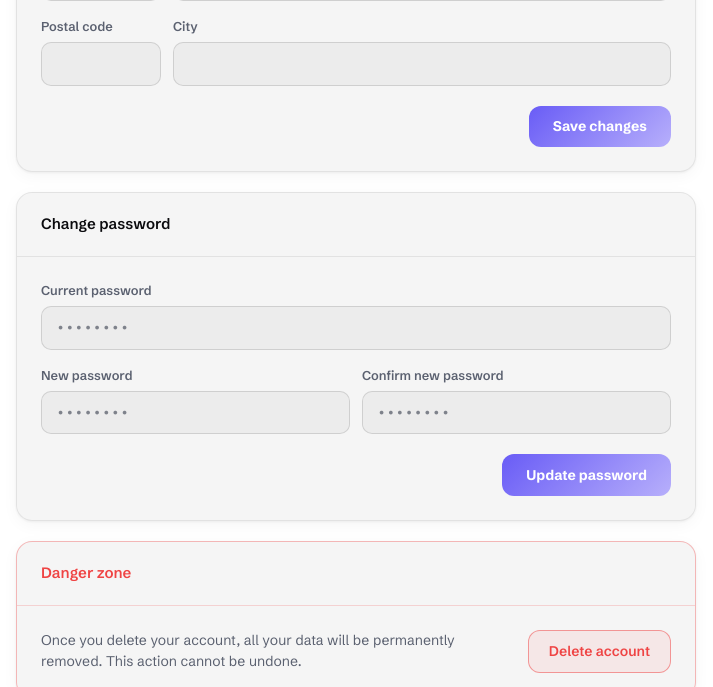
Scenario: ProfilePage › shows error on password update failure
This screenshot has width=713, height=687.
(page scrolled)
Type "wrongpass" into the password field labelled "Current password".
click(356, 328); type("wrongpass")  # box x1=41 y1=306 x2=671 y2=350
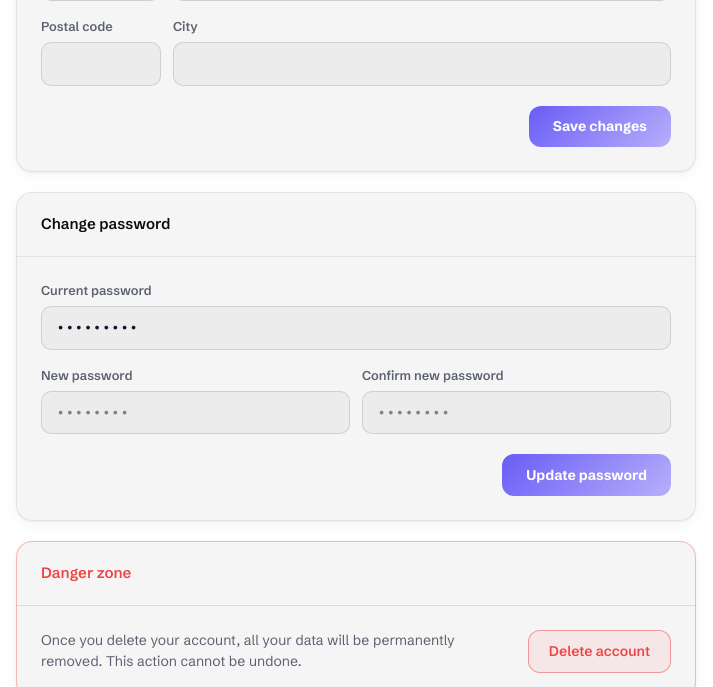
Type "newpass" into the password field labelled "New password".
click(196, 413); type("newpass")  # box x1=41 y1=391 x2=350 y2=434
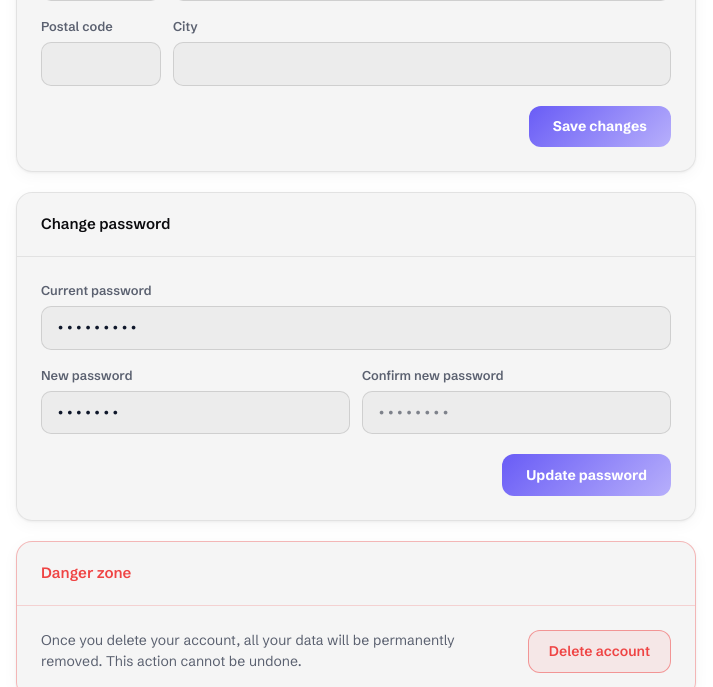
Type "newpass" into the password field labelled "Confirm new password".
click(516, 413); type("newpass")  # box x1=362 y1=391 x2=671 y2=434
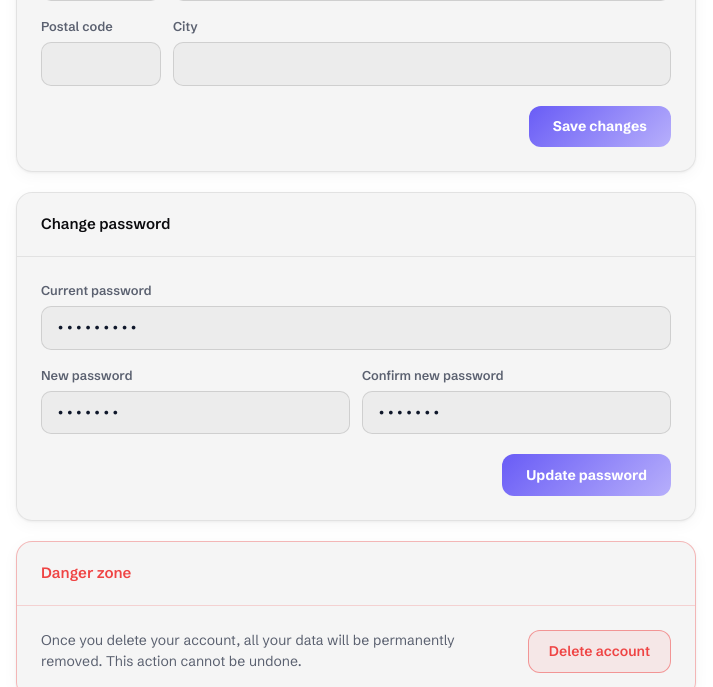
Click the button "Update password".
click(587, 475)  # box x1=502 y1=454 x2=671 y2=496
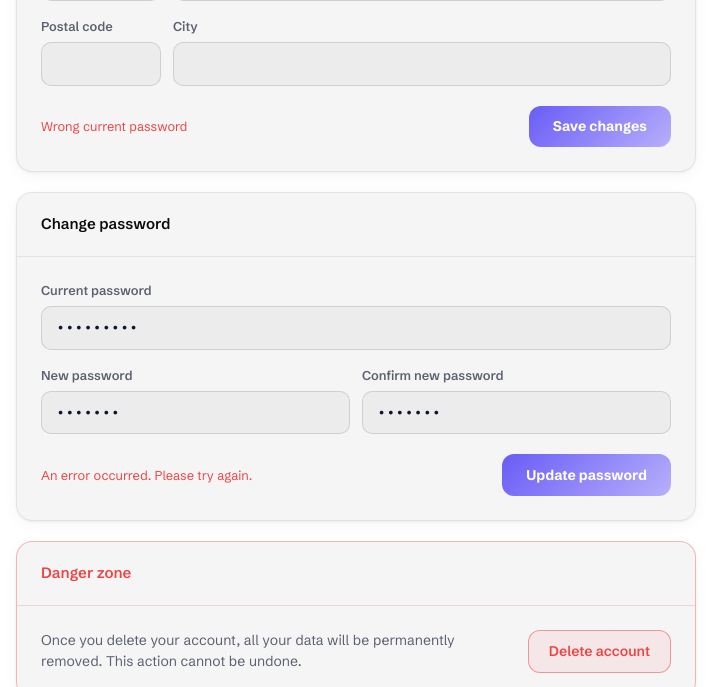
Now the text "Wrong current password" is shown, box x1=41 y1=117 x2=187 y2=136
